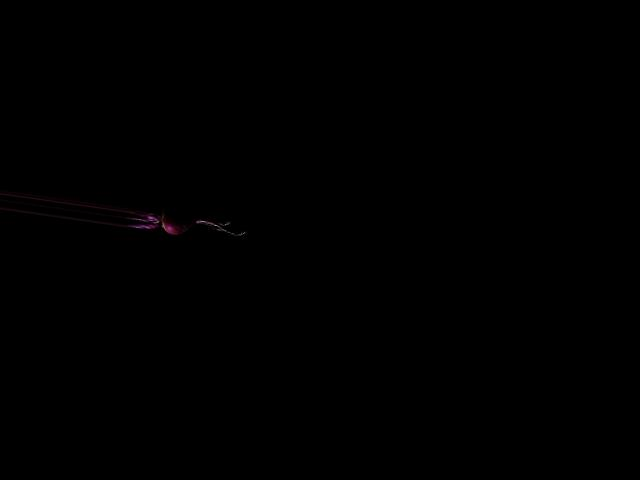beet: (123, 196, 248, 246)
